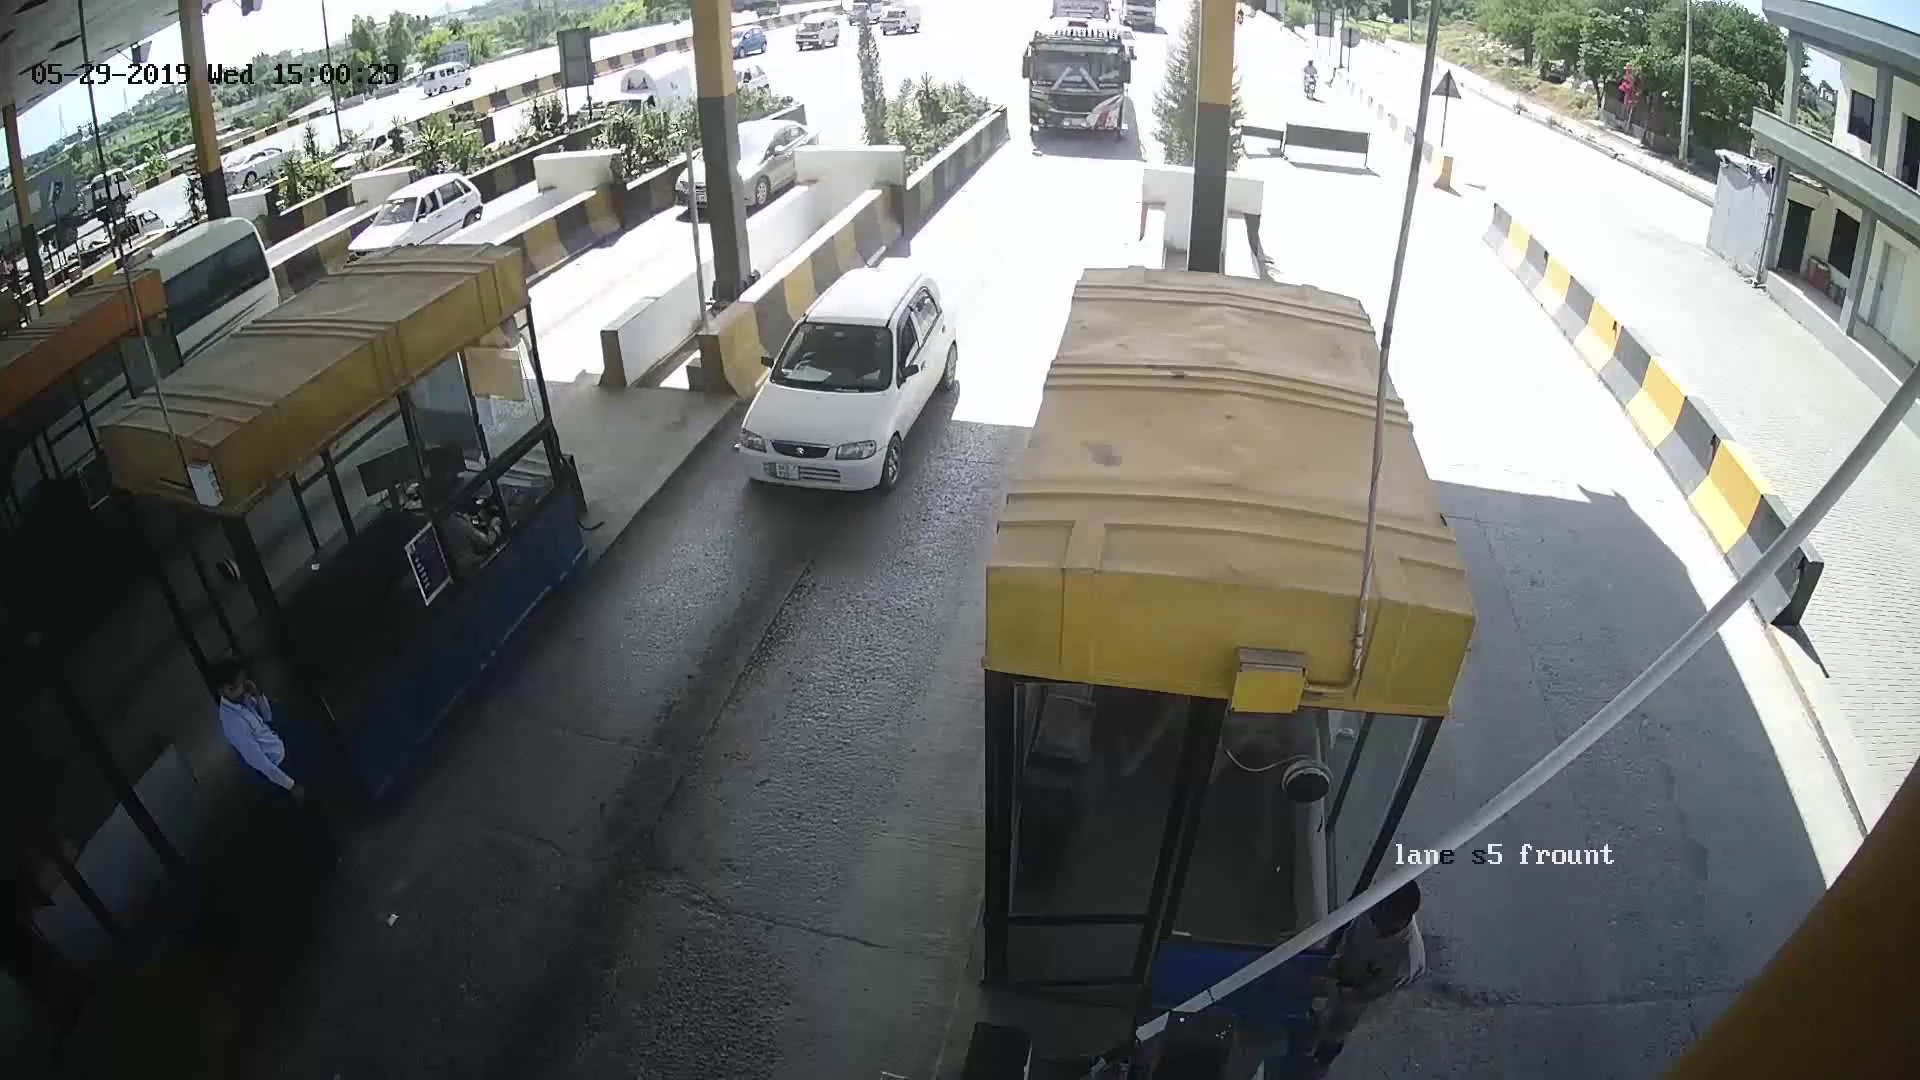bus: (1006, 18, 1149, 158)
car: (748, 295, 945, 480)
